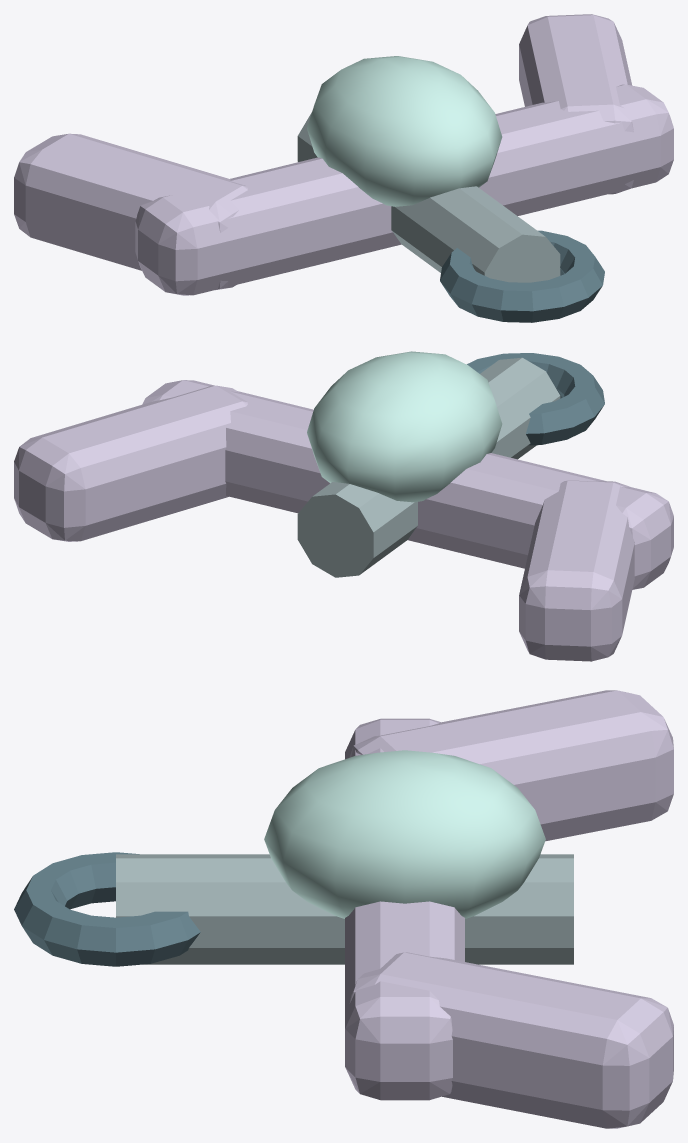
Rendered from weapon_3.glb.
3 views of the same model, one above another, from view 1: azimuth 30°, elevation 25°; view 2: azimuth 150°, elevation 25°; view 3: azimuth 270°, elevation 25° (orthographic). The views are drawn at different scales.
Parts seen in each view (by area): view 1: weapon_3_Storm_enamel, weapon_3_Visor_sea_glass, weapon_3_Ocean_basalt, weapon_3_Deep_ocean_rubber; view 2: weapon_3_Storm_enamel, weapon_3_Visor_sea_glass, weapon_3_Ocean_basalt, weapon_3_Deep_ocean_rubber; view 3: weapon_3_Storm_enamel, weapon_3_Visor_sea_glass, weapon_3_Ocean_basalt, weapon_3_Deep_ocean_rubber.
Boxes of the visible parts, <box> form: weapon_3_Storm_enamel: <box>14,14,673,295</box>; weapon_3_Visor_sea_glass: <box>307,56,502,206</box>; weapon_3_Ocean_basalt: <box>297,112,560,282</box>; weapon_3_Deep_ocean_rubber: <box>440,230,604,322</box>; weapon_3_Storm_enamel: <box>14,380,673,661</box>; weapon_3_Visor_sea_glass: <box>307,351,502,502</box>; weapon_3_Ocean_basalt: <box>297,357,560,577</box>; weapon_3_Deep_ocean_rubber: <box>467,353,604,445</box>; weapon_3_Storm_enamel: <box>345,690,673,1128</box>; weapon_3_Visor_sea_glass: <box>264,750,545,918</box>; weapon_3_Ocean_basalt: <box>116,854,573,964</box>; weapon_3_Deep_ocean_rubber: <box>14,852,200,966</box>.
Bounding box in the file's own units: 1.2 × 0.315 × 0.9367.
